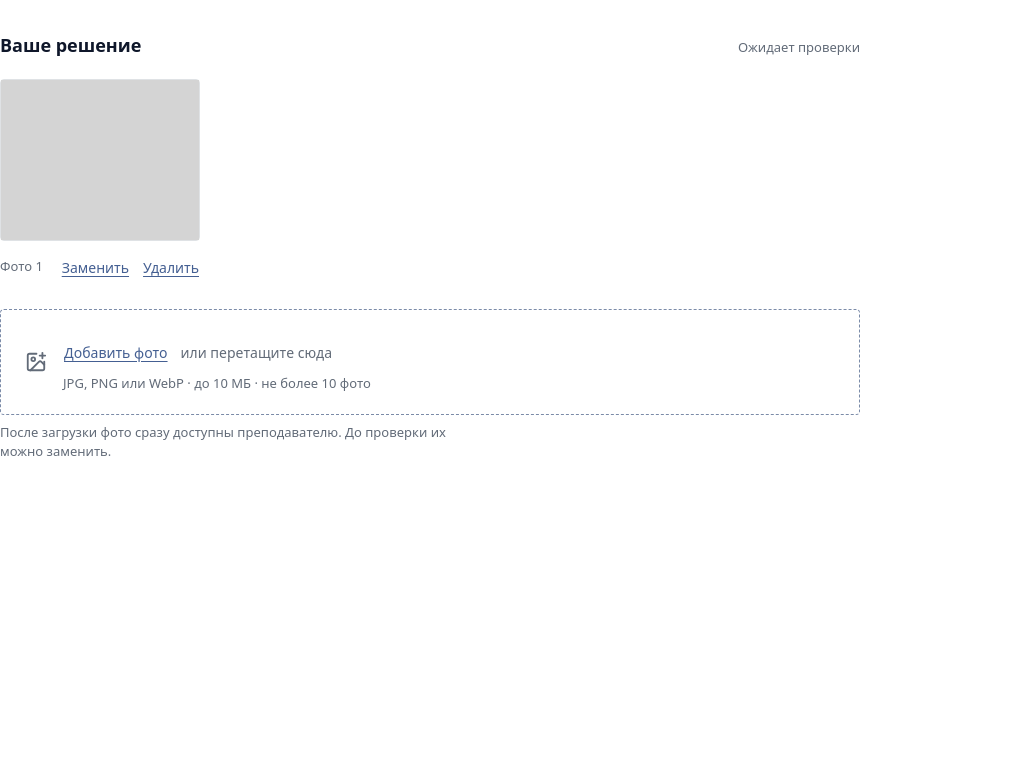
Test: confirms a photo deletion, leaves it on cancellation, and retries the same photo after a failure
What coordinates should you click on to do the following:
click the button with aria-label "Удалить фото 1"
I would click on:
 (171, 267)
Its box is [142,245,200,289].
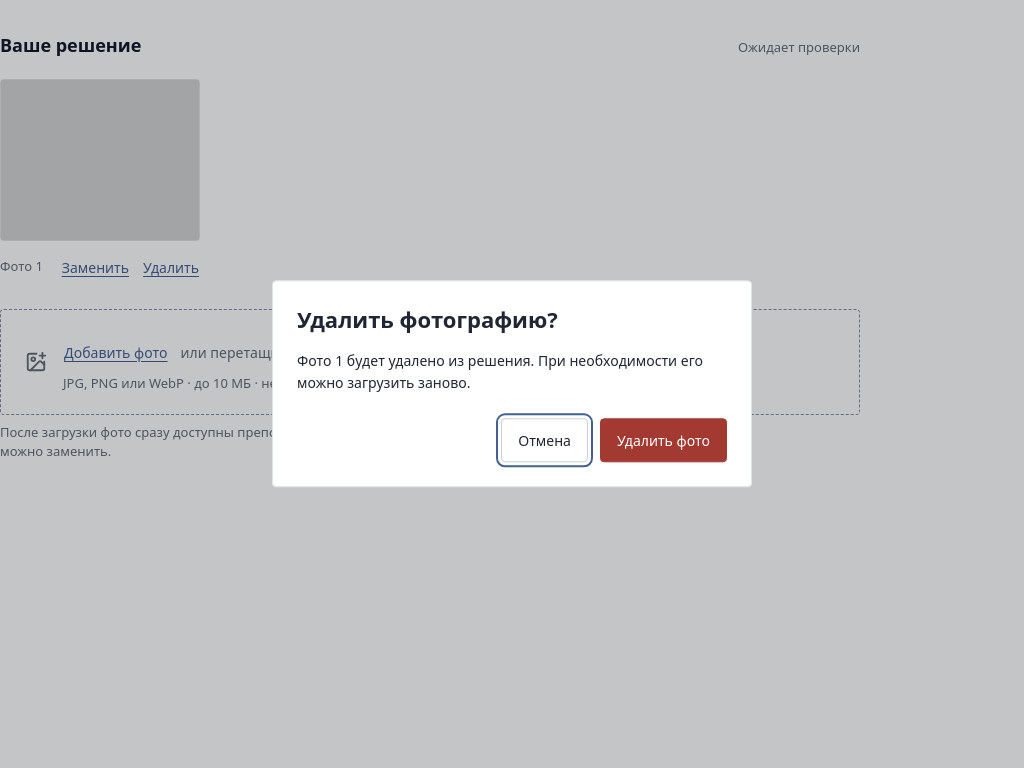
What coordinates should you click on to do the following:
click the button "Отмена"
I would click on:
 (545, 441)
Its box is [501,419,588,463].
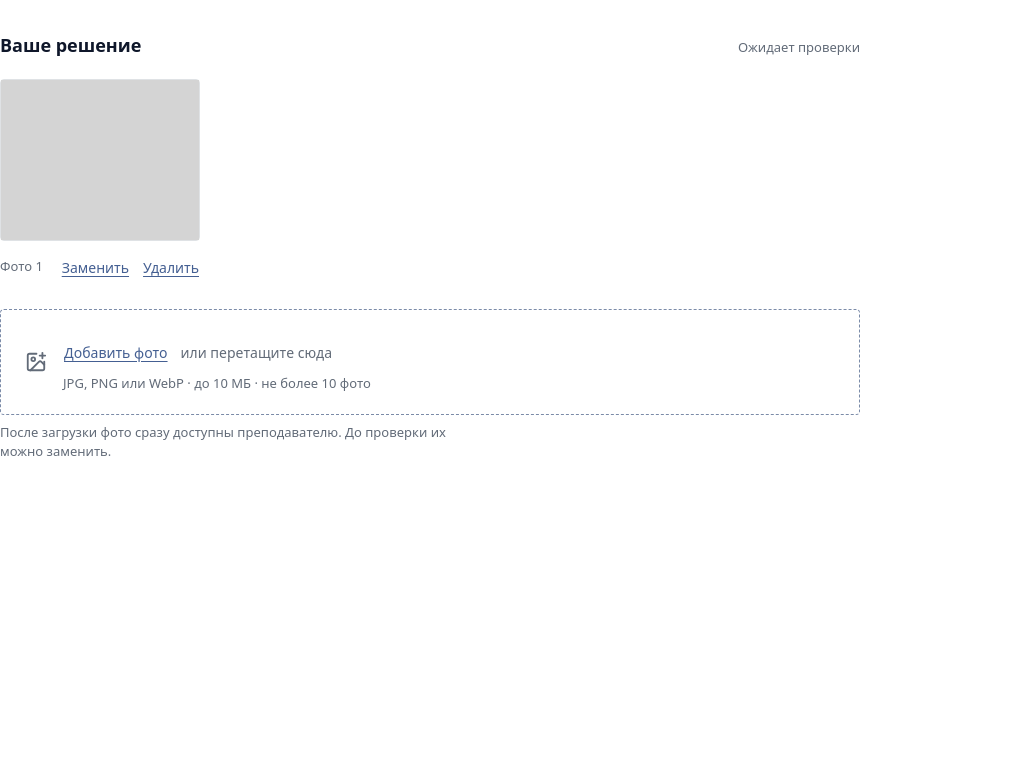
What coordinates should you click on to do the following:
click the button with aria-label "Удалить фото 1"
I would click on:
 (171, 267)
Its box is [142,245,200,289].
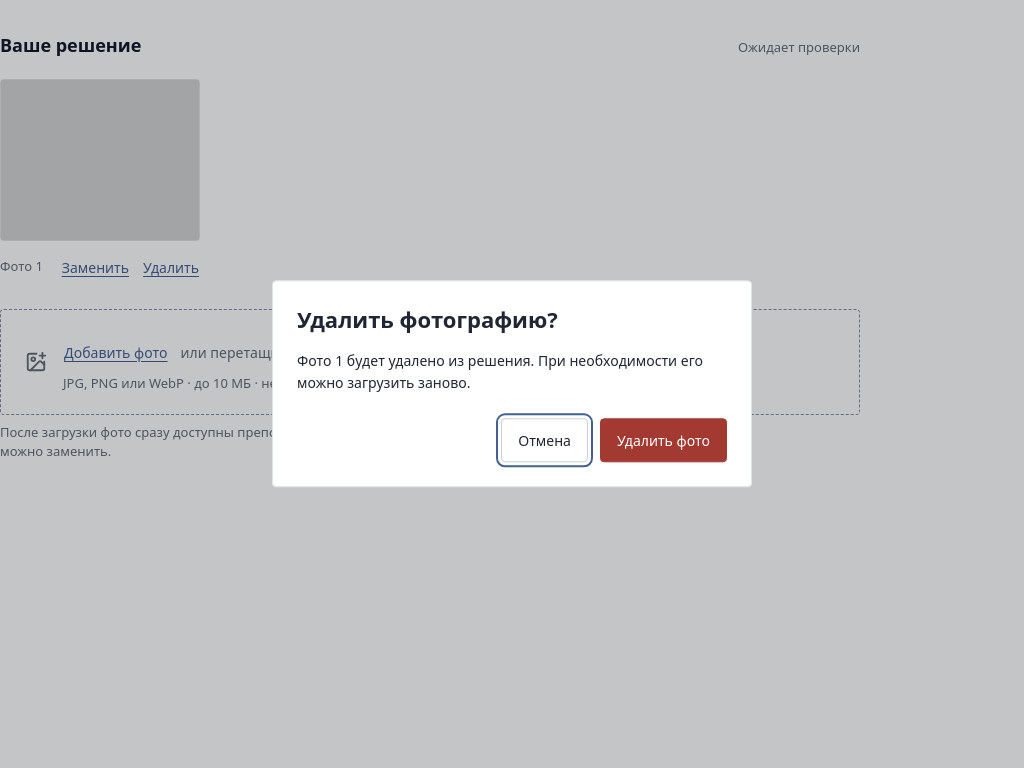
What coordinates should you click on to do the following:
click the button "Удалить фото"
I would click on:
 (663, 441)
Its box is [600,419,727,463].
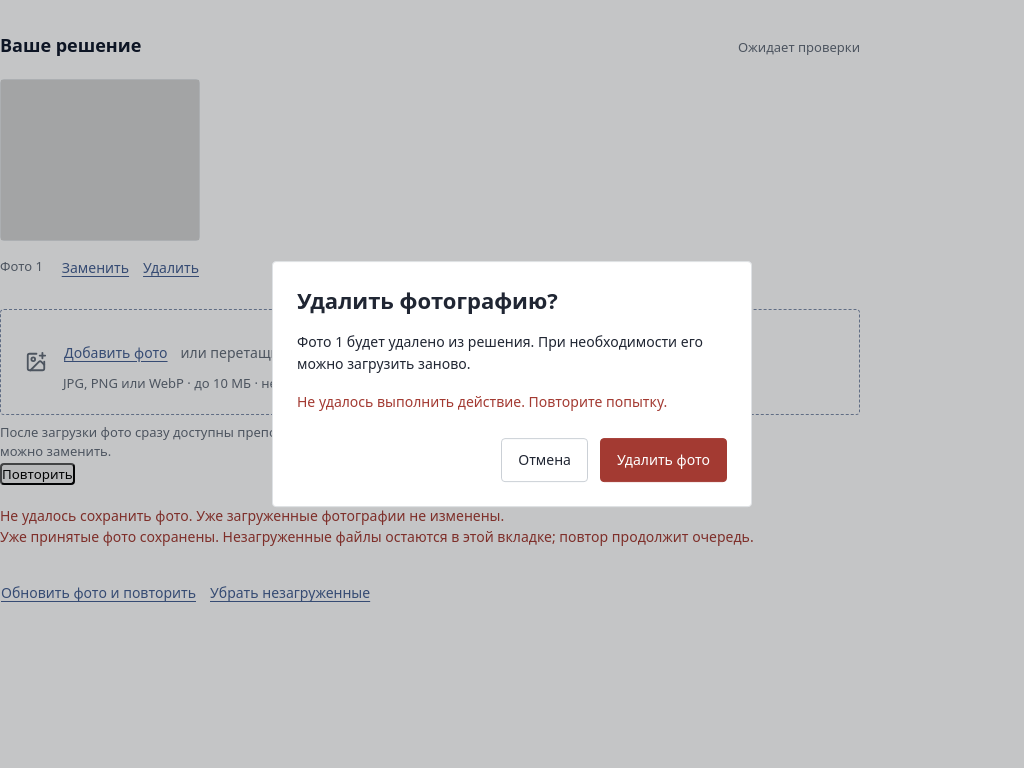
Check: the message shows "Не удалось выполнить действие", box [297,392,667,412]
What coordinates should you click on to do the following:
click the button "Удалить фото"
I would click on:
 (663, 460)
Its box is [600,438,727,482].
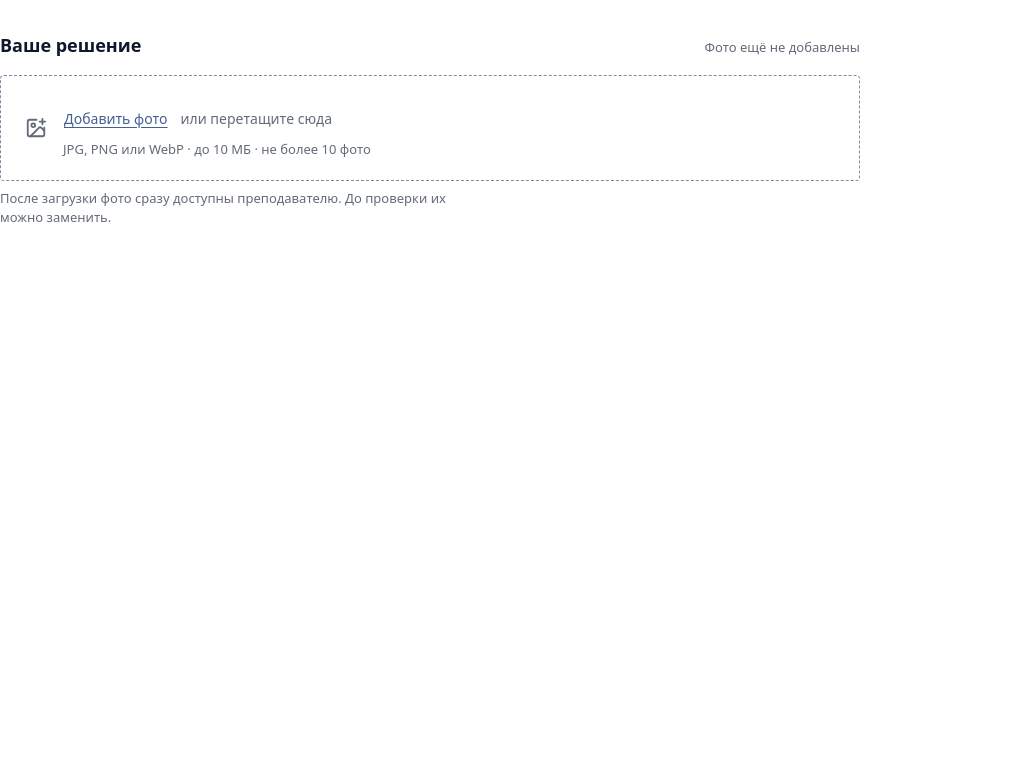
Check: the dialog is gone
